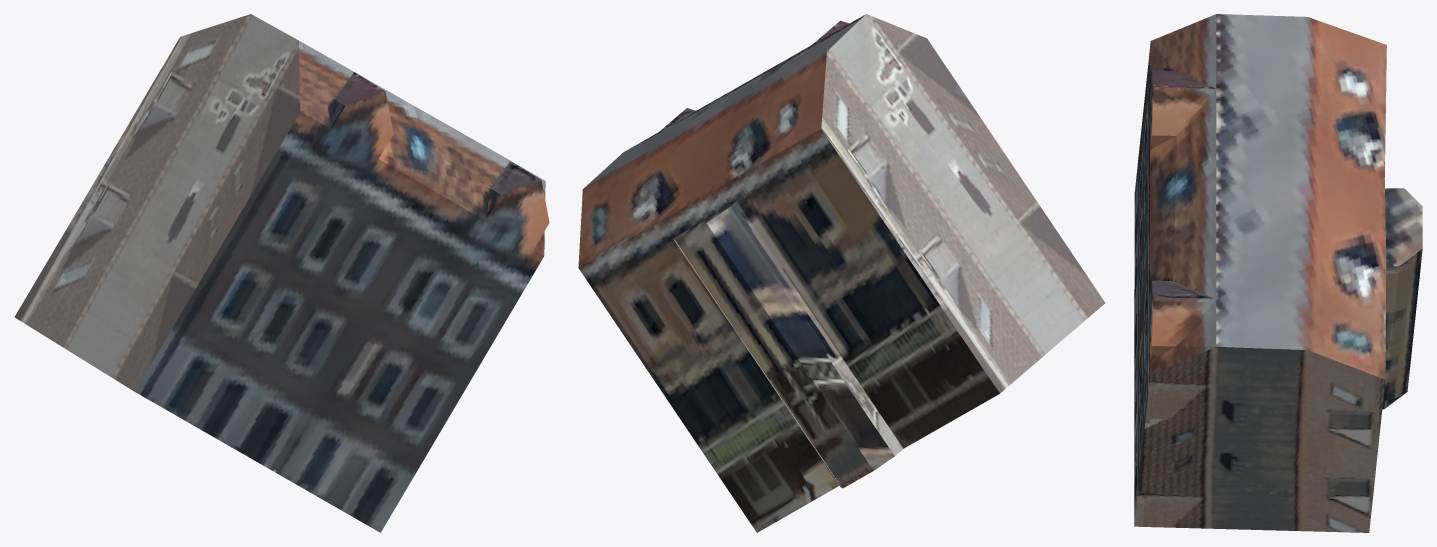
3 renders of one model, left to right at view 1: azimuth 30°, elevation 25°; view 2: azimuth 150°, elevation 25°; view 3: azimuth 270°, elevation 25°, orthographic. The views are drawn at different scales.
Visible parts, largest first — view 1: BAG_0599100000688740 (×5); view 2: BAG_0599100000688740 (×5); view 3: BAG_0599100000688740 (×5).
Part boxes in pixels (x1=…): BAG_0599100000688740 (×5): x1=14, y1=14, x2=549, y2=532; BAG_0599100000688740 (×5): x1=578, y1=14, x2=1104, y2=532; BAG_0599100000688740 (×5): x1=1134, y1=14, x2=1422, y2=532.
Size of the model in its own units: 17.4 by 17.56 by 9.18.
Materials: 1 (1 with a texture image).
